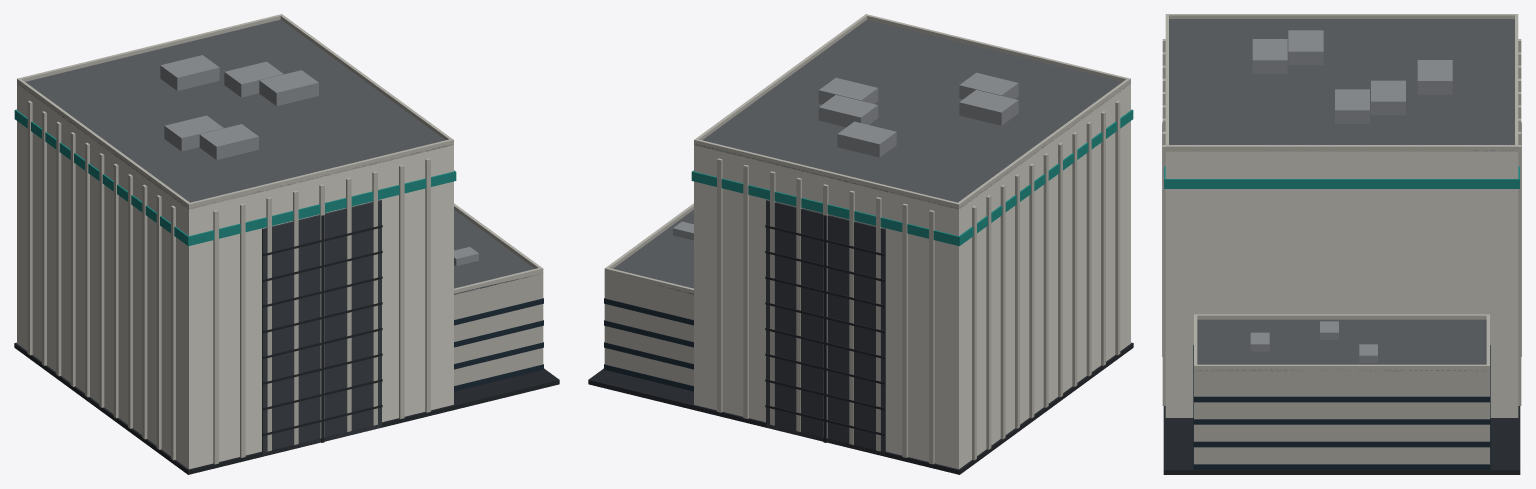
Rendered from vehicle_assembly_2.glb.
The picture shows the model from 3 angles, left to right: view 1: azimuth 30°, elevation 25°; view 2: azimuth 150°, elevation 25°; view 3: azimuth 270°, elevation 25°; orthographic projection. The views are drawn at different scales.
Visible parts, largest first — view 1: Assembly.001; view 2: Assembly.001; view 3: Assembly.001.
Part boxes in pixels (x1=…): Assembly.001: x1=14, y1=14, x2=559, y2=474; Assembly.001: x1=588, y1=14, x2=1133, y2=474; Assembly.001: x1=1162, y1=14, x2=1521, y2=474.
Bounding box in the file's own units: 106 × 76.02 × 86.6.
